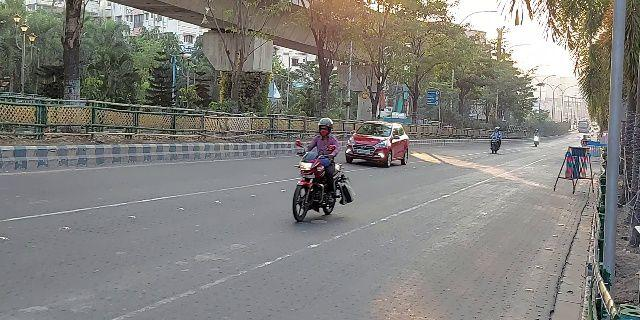Car: (343, 118, 410, 169)
Motorbike: (288, 114, 346, 225), (487, 123, 503, 156)
